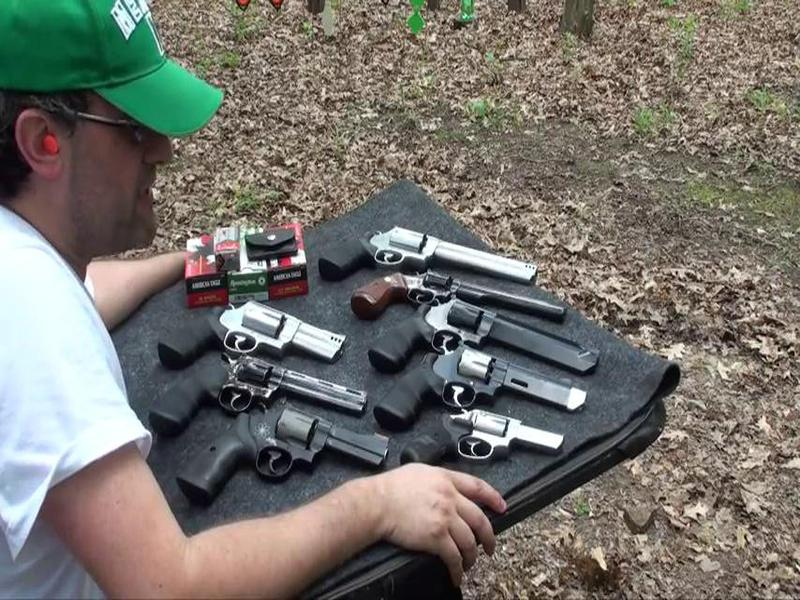Revolver: (364, 335, 598, 439)
